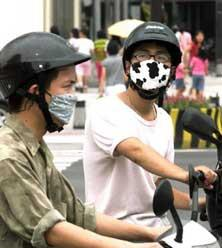OK: (133, 48, 175, 93), (46, 74, 79, 125)
